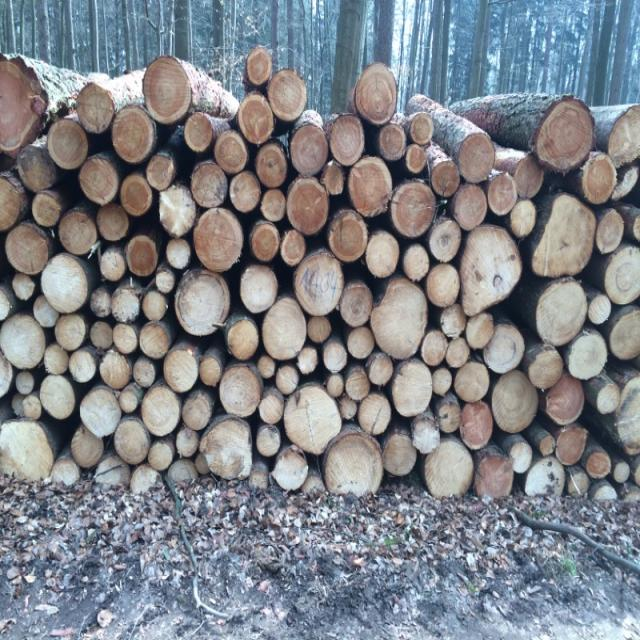wood-log: (458, 228, 522, 318), (533, 195, 597, 278), (369, 280, 427, 361), (286, 384, 344, 454), (0, 56, 43, 150), (537, 102, 594, 169), (325, 435, 383, 498), (177, 270, 232, 334), (537, 282, 590, 348), (297, 253, 346, 319), (193, 210, 243, 274), (0, 420, 52, 481), (200, 420, 251, 480), (146, 56, 193, 121), (491, 370, 540, 432), (41, 254, 90, 313), (262, 299, 307, 360), (424, 440, 472, 497), (347, 155, 391, 216), (391, 182, 437, 238), (114, 106, 158, 164), (285, 179, 329, 235), (392, 360, 434, 418), (1, 317, 46, 371), (354, 67, 396, 122), (220, 364, 262, 417), (7, 225, 51, 275), (80, 388, 122, 439), (76, 84, 118, 133), (329, 211, 369, 262), (49, 120, 90, 169), (268, 72, 308, 122), (545, 373, 584, 424), (80, 157, 121, 205), (566, 332, 607, 380), (142, 386, 182, 435), (240, 263, 279, 313), (606, 249, 640, 306), (160, 186, 198, 237), (289, 124, 327, 174), (476, 456, 516, 502), (459, 134, 498, 181), (239, 99, 276, 147), (329, 116, 365, 165), (582, 155, 618, 204), (615, 384, 640, 454), (113, 420, 151, 466), (459, 401, 494, 450), (40, 374, 78, 419), (191, 162, 229, 207), (366, 231, 402, 278), (58, 212, 96, 256), (610, 109, 640, 164), (17, 152, 57, 193), (163, 346, 198, 392), (453, 184, 488, 230), (527, 345, 564, 388), (380, 432, 416, 476), (272, 449, 309, 491), (425, 264, 460, 308), (340, 284, 374, 329), (454, 362, 490, 404), (359, 393, 393, 437), (611, 310, 640, 361), (226, 318, 260, 361), (122, 172, 154, 216), (256, 144, 288, 188), (526, 458, 565, 494), (214, 132, 248, 173), (486, 172, 517, 215), (96, 202, 130, 241), (0, 175, 24, 230), (231, 170, 262, 212), (127, 235, 158, 277), (73, 429, 105, 469), (556, 426, 588, 466), (138, 324, 172, 361), (100, 349, 132, 388), (596, 212, 624, 255), (250, 222, 280, 262), (181, 392, 212, 430), (185, 115, 215, 154), (55, 315, 87, 351), (510, 198, 537, 238), (110, 288, 140, 324), (432, 161, 462, 197), (411, 417, 440, 453), (404, 244, 432, 281), (32, 193, 61, 228), (441, 302, 469, 338), (346, 327, 376, 360), (70, 348, 99, 382), (145, 156, 174, 190), (378, 124, 406, 159), (419, 331, 446, 366), (44, 342, 71, 376), (100, 248, 126, 283), (281, 230, 306, 266), (51, 458, 81, 488), (148, 439, 175, 472), (141, 290, 168, 323), (31, 296, 58, 328), (262, 189, 289, 221), (260, 392, 286, 425), (323, 340, 349, 372), (167, 237, 193, 269), (369, 353, 394, 386), (275, 364, 301, 395), (112, 324, 136, 356), (589, 294, 613, 326), (447, 338, 472, 368), (346, 372, 371, 402), (258, 427, 282, 458), (512, 442, 534, 474), (16, 394, 42, 421), (175, 428, 198, 458), (412, 115, 434, 146), (586, 451, 612, 477), (308, 317, 332, 345), (11, 272, 35, 300), (91, 322, 114, 351), (134, 359, 156, 388), (201, 358, 222, 388), (298, 346, 320, 374), (434, 366, 454, 396), (0, 352, 13, 398), (407, 148, 428, 176), (119, 385, 140, 412), (567, 469, 588, 496), (0, 285, 14, 323), (259, 353, 278, 378), (157, 270, 176, 295), (16, 371, 36, 394), (326, 374, 346, 397), (615, 461, 632, 483), (633, 214, 640, 242)
